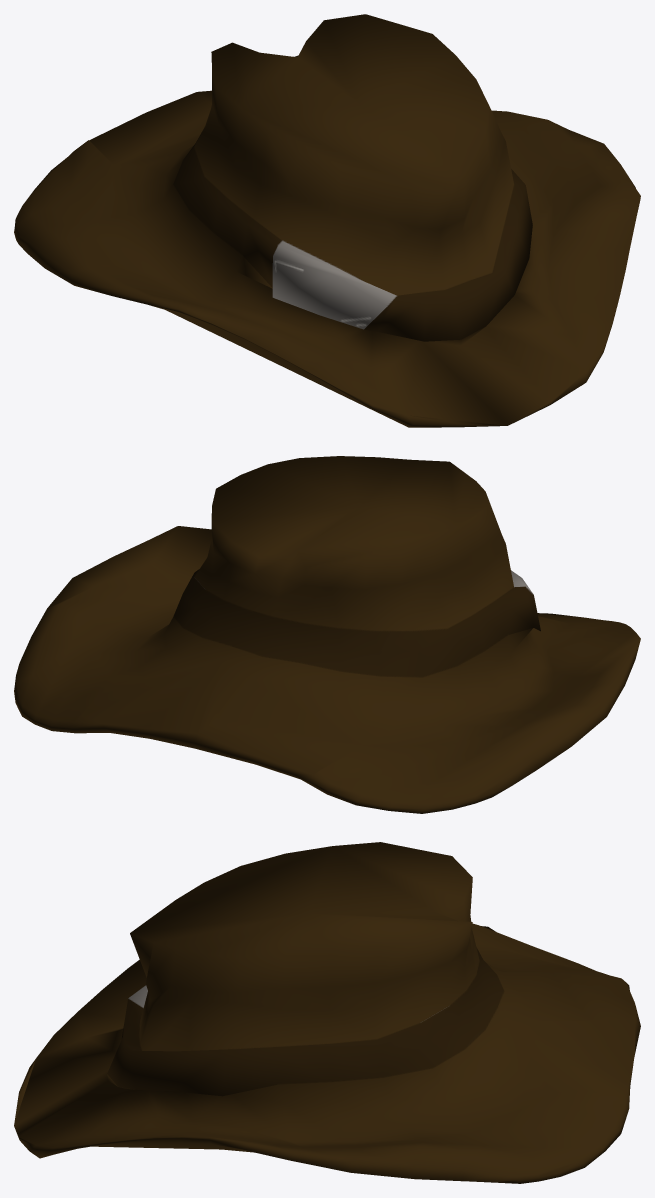
File: hat.fbx
The picture shows the model from 3 angles, top to bottom: view 1: azimuth 30°, elevation 25°; view 2: azimuth 150°, elevation 25°; view 3: azimuth 270°, elevation 25°; orthographic projection.
Visible parts, largest first — view 1: Hat:pCube1.002; view 2: Hat:pCube1.002; view 3: Hat:pCube1.002.
Boxes of the visible parts, bbox=[...] form: Hat:pCube1.002: bbox=[14, 14, 640, 427]; Hat:pCube1.002: bbox=[14, 456, 640, 813]; Hat:pCube1.002: bbox=[14, 842, 640, 1183].
Size of the model in its own units: 60.52 by 25.09 by 61.39.
